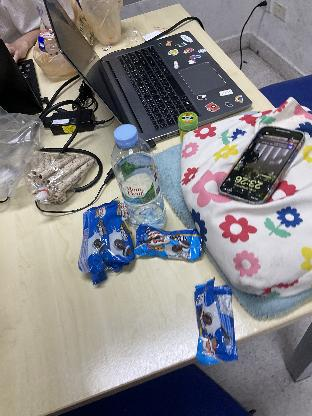Plastic Bottle: (110, 124, 168, 235)
Plastic Packaging: (194, 276, 240, 368), (101, 195, 136, 275), (135, 226, 207, 262)
